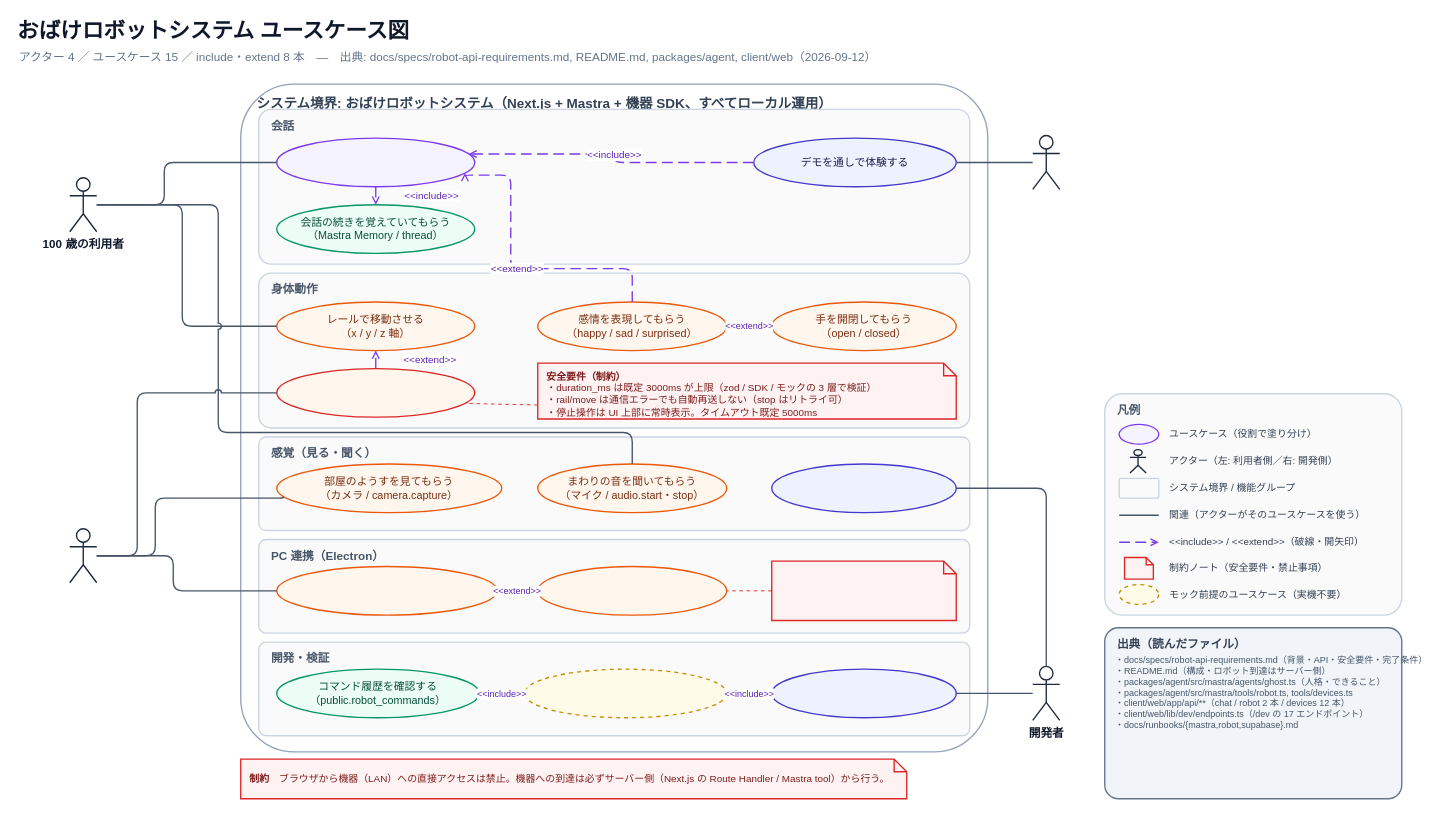
This 1443x815 diagram has some shape labels left out. The shapes that lost their labels are listed below. From the top down, each one's centre as x and y in pixels, then its label:
At point 375,162: "おばけと会話する （テキストチャット）".
At point 1046,162: "ハッカソン審査員".
At point 375,392: "緊急停止する".
At point 864,488: "ロボットの調子を確認する （rail / desktop / WS 接続）".
At point 83,555: "家族・介護者".
At point 387,590: "PC の画面を見せてもらう （スクリーンショット）".
At point 632,590: "ブラウザで URL を開いてもらう".
At point 864,590: "制約 開く URL は http / https のみ許可。 file: や javascript: は拒否する。".
At point 625,693: "モックで実機なしに検証する （DEVICE_MODE=mock）".
At point 864,693: "全 API を手動で実行する （開発者ダッシュボード /dev）".
